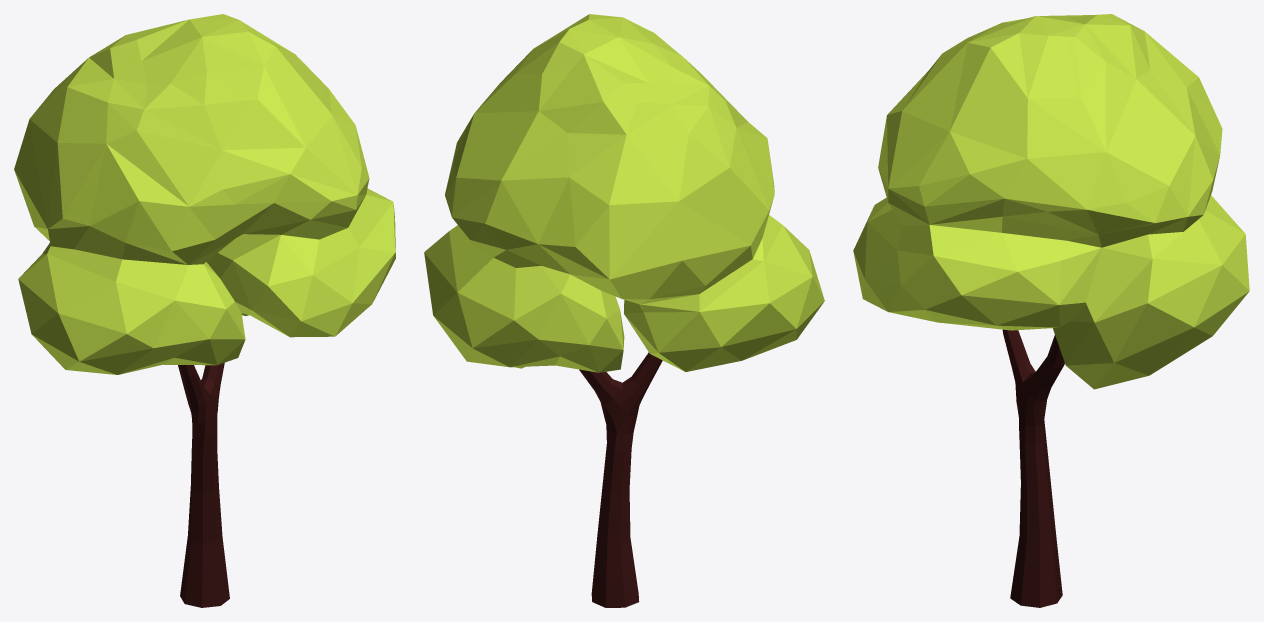
3 renders of one model, left to right at view 1: azimuth 30°, elevation 25°; view 2: azimuth 150°, elevation 25°; view 3: azimuth 270°, elevation 25°, orthographic. The views are drawn at different scales.
Parts seen in each view (by area): view 1: tree4_Icosphere.002, tree4_Icosphere.003; view 2: tree4_Icosphere.002, tree4_Icosphere.003; view 3: tree4_Icosphere.002, tree4_Icosphere.003.
Boxes of the visible parts, <box> form: tree4_Icosphere.002: <box>14,14,395,374</box>; tree4_Icosphere.003: <box>178,363,229,607</box>; tree4_Icosphere.002: <box>424,14,824,372</box>; tree4_Icosphere.003: <box>579,352,662,607</box>; tree4_Icosphere.002: <box>853,14,1249,389</box>; tree4_Icosphere.003: <box>1002,329,1064,607</box>.
Size of the model in its own units: 11.46 by 18.63 by 11.52.
